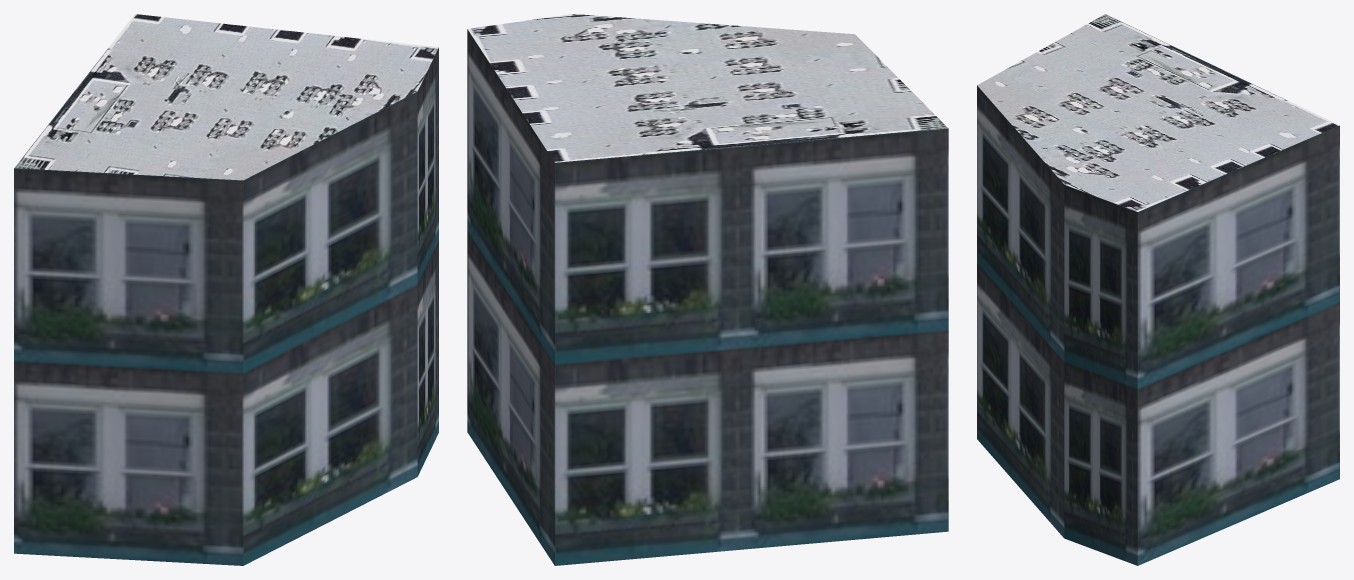
Rendered from ResTex__4888.fbx.
The picture shows the model from 3 angles, left to right: view 1: azimuth 30°, elevation 25°; view 2: azimuth 150°, elevation 25°; view 3: azimuth 270°, elevation 25°; orthographic projection. The views are drawn at different scales.
Visible parts, largest first — view 1: CityEngineMaterial_11_m, CityEngineMaterial_4_m; view 2: CityEngineMaterial_11_m, CityEngineMaterial_4_m; view 3: CityEngineMaterial_11_m, CityEngineMaterial_4_m.
Boxes of the visible parts, bbox=[...] form: CityEngineMaterial_11_m: bbox=[14, 47, 438, 565]; CityEngineMaterial_4_m: bbox=[14, 14, 438, 180]; CityEngineMaterial_11_m: bbox=[467, 29, 948, 565]; CityEngineMaterial_4_m: bbox=[467, 14, 947, 162]; CityEngineMaterial_11_m: bbox=[977, 85, 1339, 565]; CityEngineMaterial_4_m: bbox=[977, 14, 1339, 211].
Size of the model in its own units: 7.21 by 6 by 5.58.
2 materials, 2 textured.
